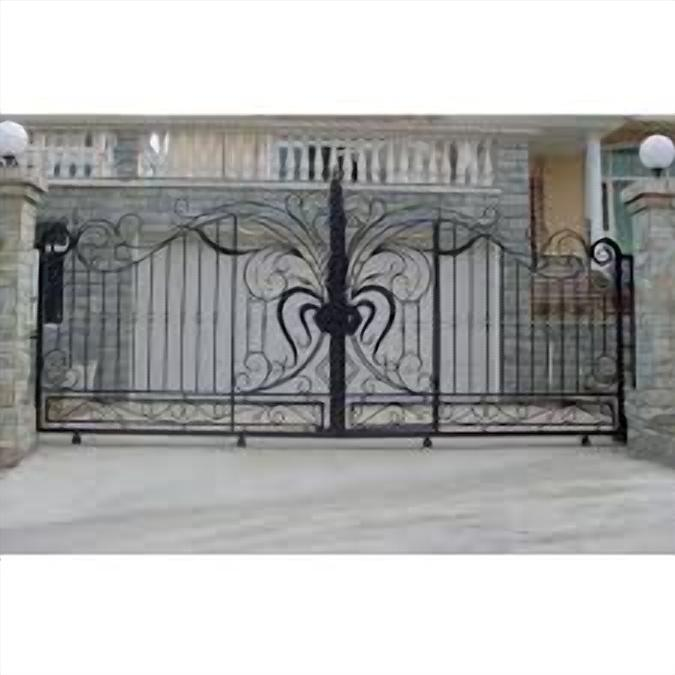Building: (0, 115, 675, 409)
Gate: (34, 164, 636, 449)
Window-without-grill: (596, 146, 675, 262)
